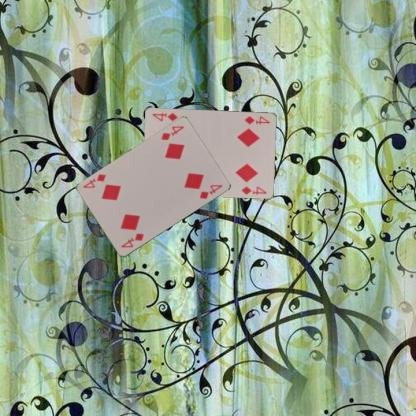4d: (118, 231, 145, 249), (158, 124, 185, 141), (242, 113, 271, 126)
